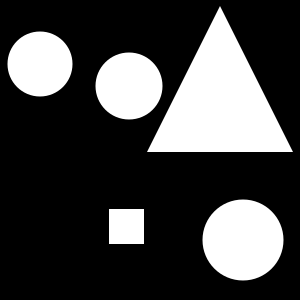circle: (109, 209, 144, 244)
rectangle: (202, 200, 284, 280), (96, 53, 162, 120), (7, 32, 72, 96)
triangle: (147, 6, 293, 152)
